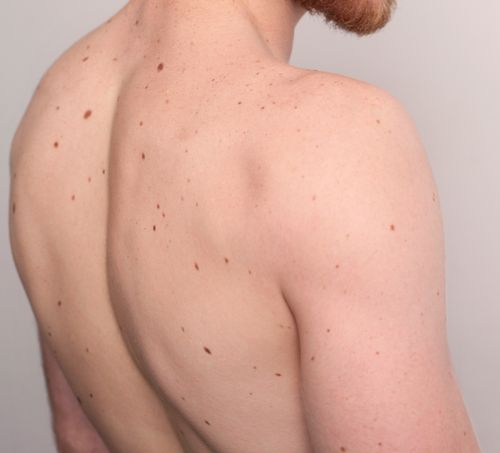mole: (199, 343, 217, 360), (80, 107, 96, 124), (78, 52, 92, 66), (81, 173, 94, 188), (154, 60, 166, 76), (386, 219, 398, 235), (202, 416, 215, 430), (136, 149, 148, 164), (52, 296, 64, 311), (49, 138, 62, 151), (80, 344, 92, 358), (190, 259, 201, 274), (133, 118, 148, 129), (138, 80, 153, 91), (221, 255, 233, 268), (85, 389, 96, 403), (51, 101, 62, 115), (67, 190, 78, 204), (149, 223, 161, 235), (373, 348, 386, 359), (131, 17, 144, 28), (272, 369, 283, 381), (235, 97, 246, 109), (152, 201, 162, 212), (322, 325, 332, 336), (308, 354, 319, 363), (178, 324, 186, 334)
